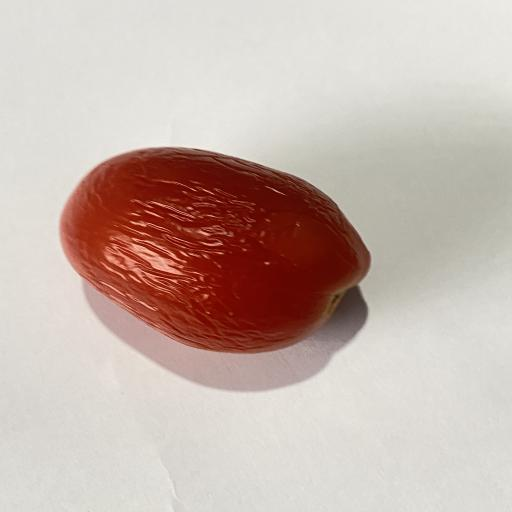spoiled: (60, 147, 370, 353)
